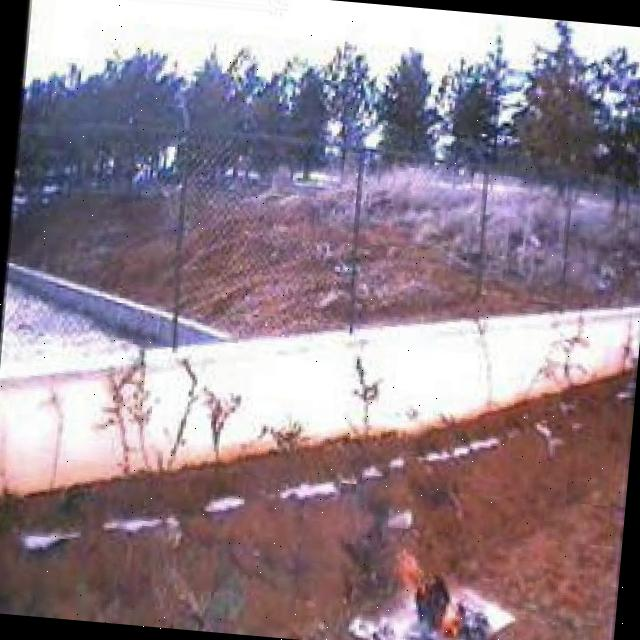fire: (385, 540, 499, 640)
